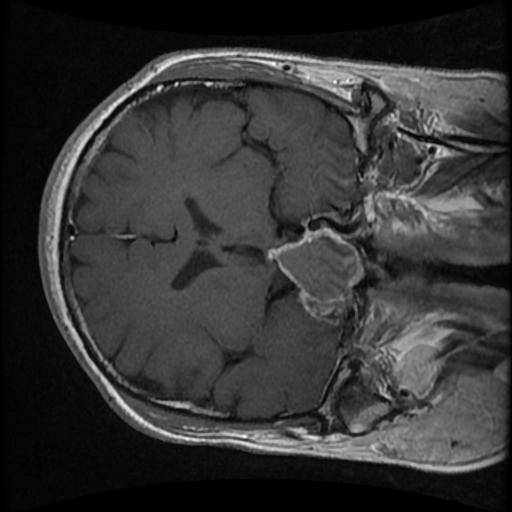pituitary tumour: (267, 228, 363, 324)
